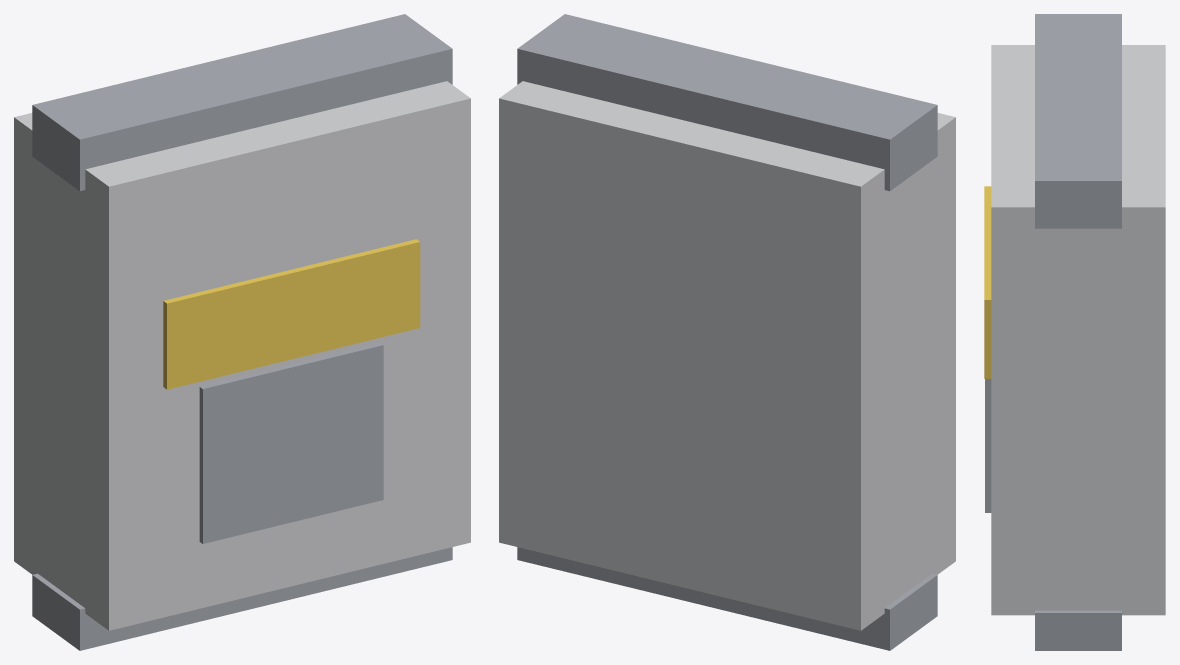
Rendered from prop_ration.glb.
The picture shows the model from 3 angles, left to right: view 1: azimuth 30°, elevation 25°; view 2: azimuth 150°, elevation 25°; view 3: azimuth 270°, elevation 25°; orthographic projection. The views are drawn at different scales.
Parts seen in each view (by area): view 1: prop_ration; view 2: prop_ration; view 3: prop_ration.
Part boxes in pixels (x1,y1,x2,y2): prop_ration: [14, 14, 470, 650]; prop_ration: [499, 14, 955, 650]; prop_ration: [984, 14, 1165, 650].
Bounding box in the file's own units: 0.2266 × 0.297 × 0.104.
